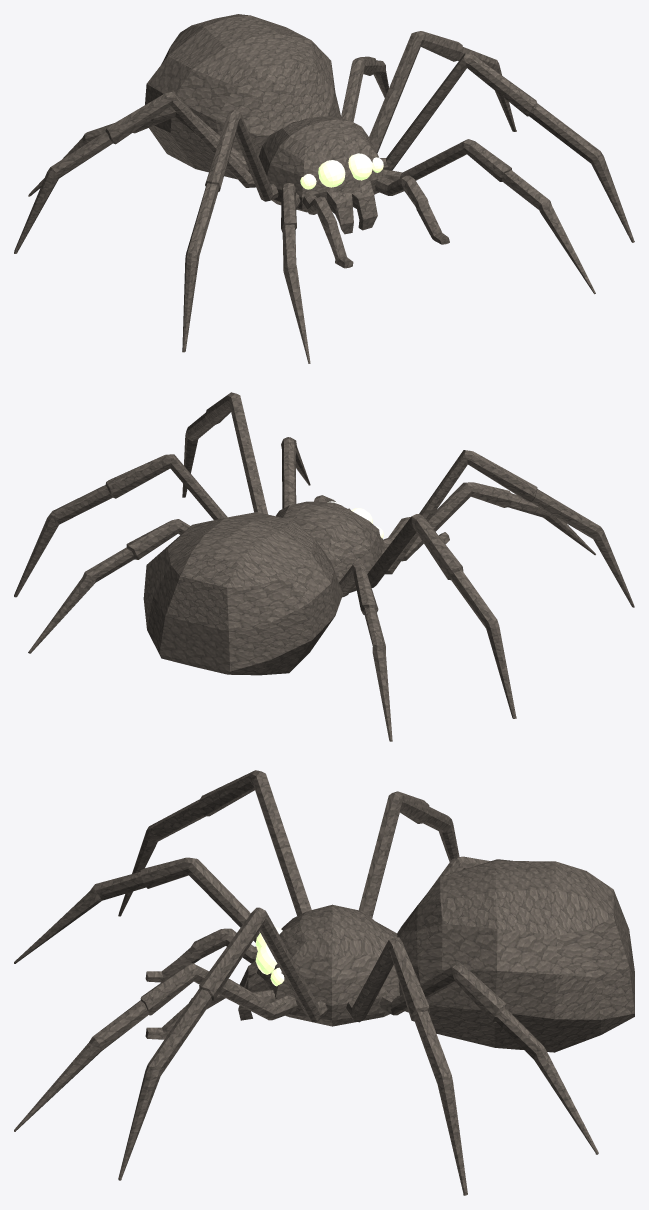
Rendered from cave_spider_v2.glb.
3 renders of one model, top to bottom at view 1: azimuth 30°, elevation 25°; view 2: azimuth 150°, elevation 25°; view 3: azimuth 270°, elevation 25°, orthographic. The views are drawn at different scales.
Parts seen in each view (by area): view 1: body, leg_l0, leg_r0, leg_r1, leg_r3, leg_l1, leg_r2; view 2: body, leg_r0, leg_r3, leg_l0, leg_r2, leg_l3, leg_l2; view 3: body, leg_l0, leg_r0, leg_r3, leg_l2, leg_l1, leg_l3.
Part boxes in pixels (left/top/right/bottom): body: left=14, top=14, right=634, bottom=363; leg_l0: left=383, top=139, right=551, bottom=211; leg_r0: left=281, top=183, right=300, bottom=272; leg_r1: left=182, top=258, right=198, bottom=350; leg_r3: left=29, top=115, right=355, bottom=194; leg_l1: left=326, top=157, right=633, bottom=241; leg_r2: left=14, top=139, right=362, bottom=252; body: left=14, top=392, right=634, bottom=741; leg_r0: left=382, top=482, right=550, bottom=561; leg_r3: left=283, top=501, right=392, bottom=740; leg_l0: left=281, top=437, right=297, bottom=508; leg_r2: left=448, top=576, right=516, bottom=717; leg_l3: left=29, top=577, right=93, bottom=652; leg_l2: left=14, top=493, right=115, bottom=596; body: left=14, top=770, right=634, bottom=1195; leg_l0: left=89, top=963, right=297, bottom=1050; leg_r0: left=89, top=857, right=260, bottom=942; leg_r3: left=299, top=914, right=365, bottom=940; leg_l2: left=411, top=1015, right=467, bottom=1193; leg_l1: left=118, top=928, right=282, bottom=1179; leg_l3: left=539, top=1053, right=598, bottom=1153.
Bounding box in the file's own units: 0.95 × 0.3119 × 0.8433.
Materials: 2 (1 with a texture image).
